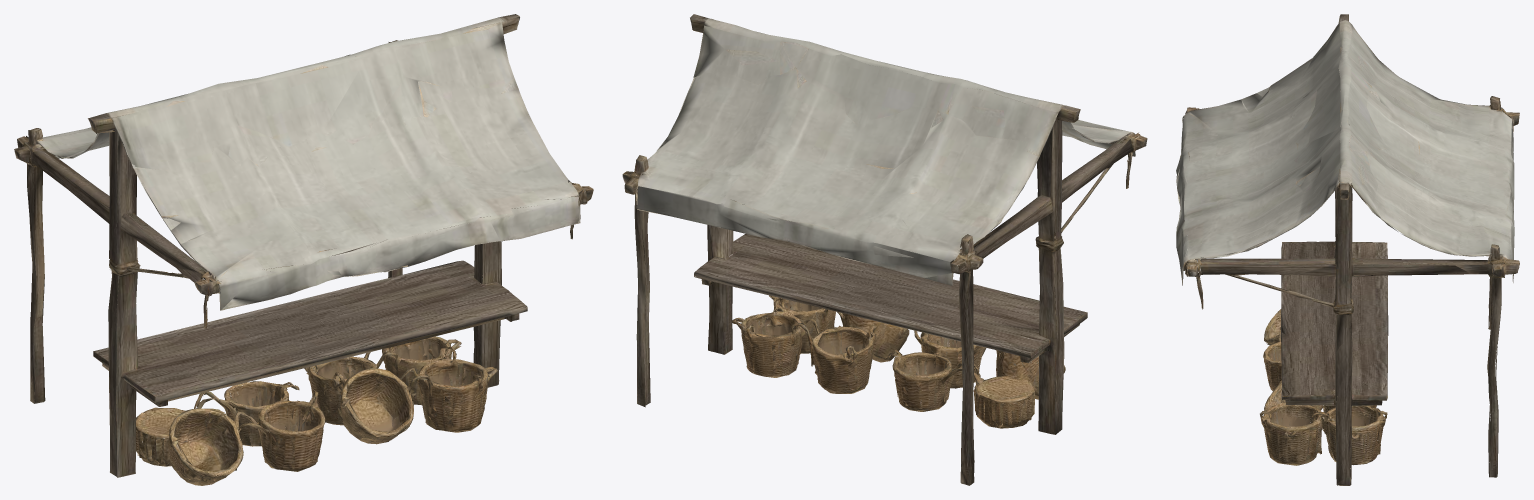
The model's file is market-awning.glb.
3 renders of one model, left to right at view 1: azimuth 30°, elevation 25°; view 2: azimuth 150°, elevation 25°; view 3: azimuth 270°, elevation 25°, orthographic. The views are drawn at different scales.
Parts seen in each view (by area): view 1: Mesh_0; view 2: Mesh_0; view 3: Mesh_0.
Boxes of the visible parts, x1,y1,x2,y2 form: Mesh_0: (14,14,593,485); Mesh_0: (622,14,1147,485); Mesh_0: (1176,14,1519,485).
Size of the model in its own units: 1.9 by 1.56 by 1.57.
1 material, 1 textured.
